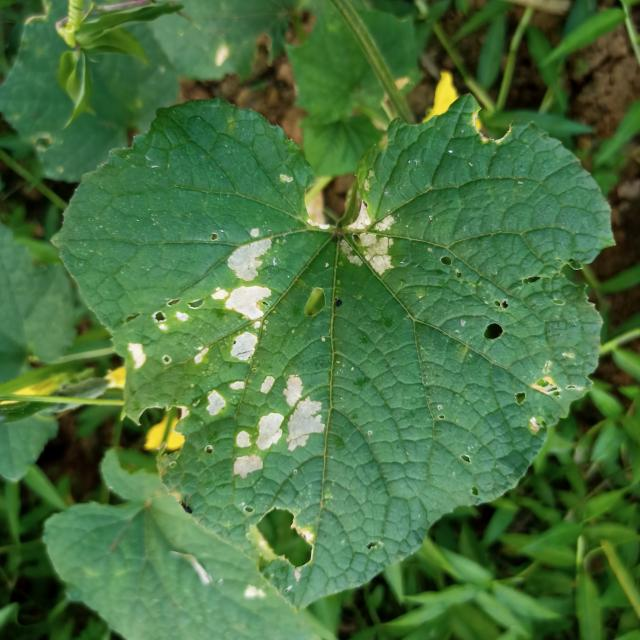disease_cucumber: (125, 229, 286, 369), (194, 368, 330, 489), (332, 197, 404, 285)
